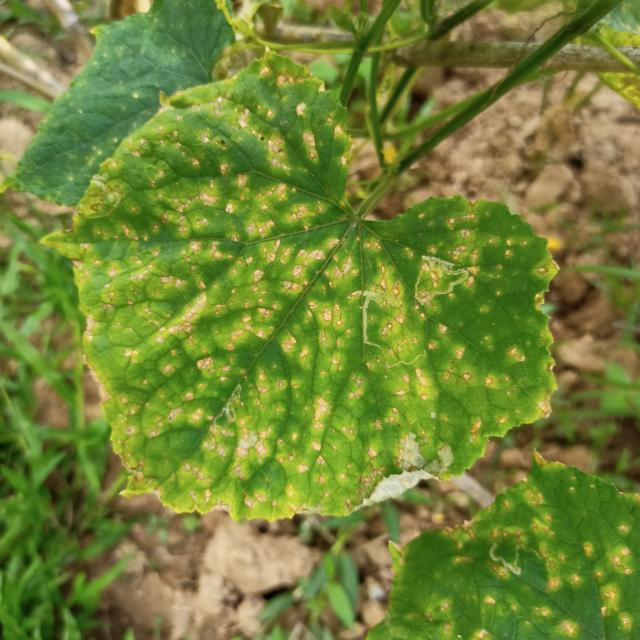disease_cucumber: (76, 75, 548, 520)
